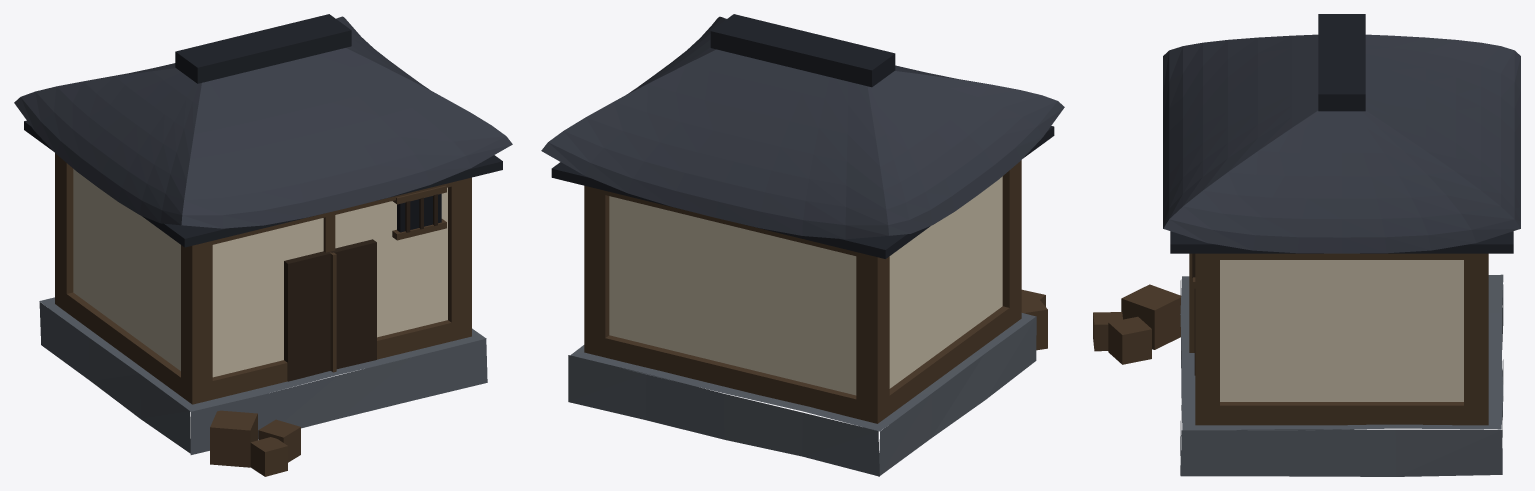
Rendered from 2-22_storehouse.glb.
The picture shows the model from 3 angles, left to right: view 1: azimuth 30°, elevation 25°; view 2: azimuth 150°, elevation 25°; view 3: azimuth 270°, elevation 25°; orthographic projection. The views are drawn at different scales.
Visible parts, largest first — view 1: 倉庫; view 2: 倉庫; view 3: 倉庫.
Boxes of the visible parts, x1=… form: 倉庫: x1=14, y1=14, x2=512, y2=476; 倉庫: x1=541, y1=14, x2=1064, y2=476; 倉庫: x1=1093, y1=14, x2=1520, y2=476.
Size of the model in its own units: 5.6 by 5.22 by 5.86.
